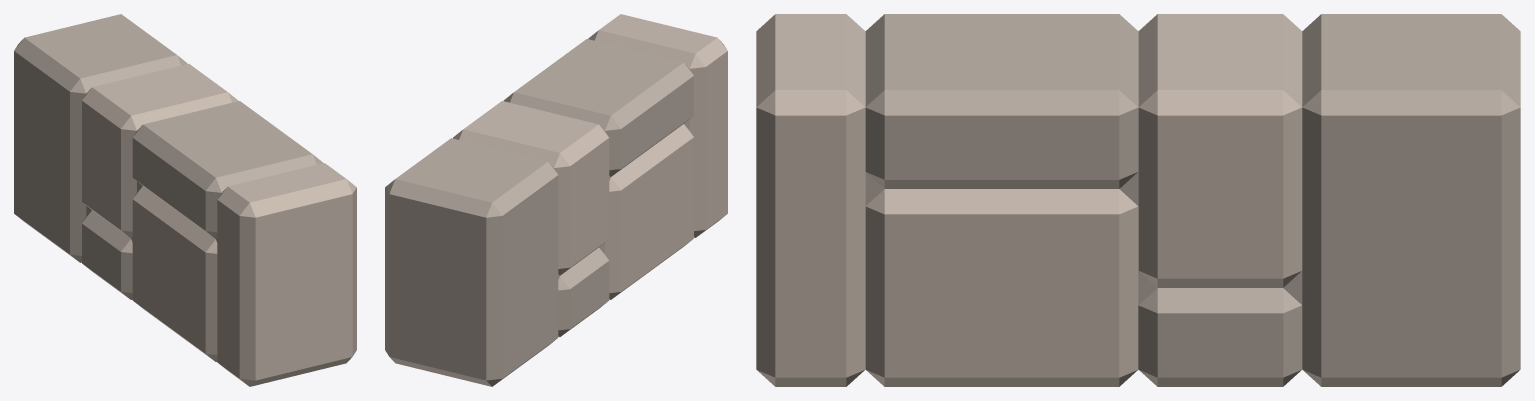
The model's file is Stone_Curb_2.glb.
The picture shows the model from 3 angles, left to right: view 1: azimuth 30°, elevation 25°; view 2: azimuth 150°, elevation 25°; view 3: azimuth 270°, elevation 25°; orthographic projection. The views are drawn at different scales.
Visible parts, largest first — view 1: object1; view 2: object1; view 3: object1.
Boxes of the visible parts, x1,y1,x2,y2 form: object1: (14, 14, 356, 386); object1: (385, 14, 727, 386); object1: (756, 14, 1520, 386).
Bounding box in the file's own units: 0.2 × 0.3 × 0.7.
